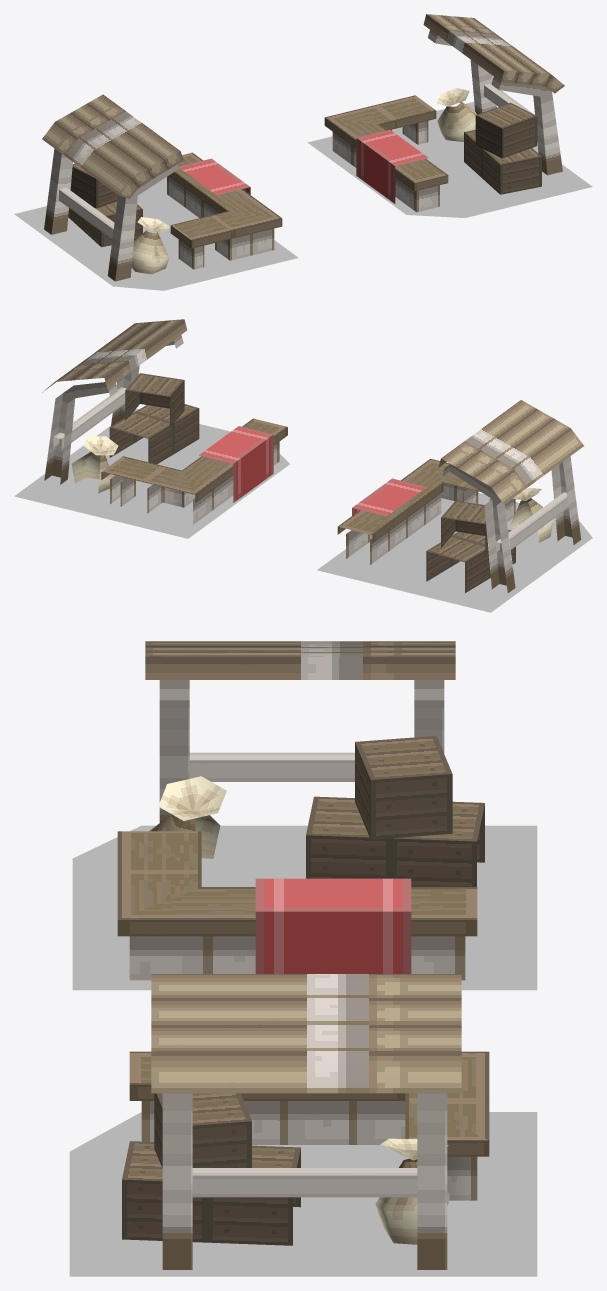
The model's file is wf_shop_s1.dae.
3 views of the same model, one above another, from view 1: azimuth 30°, elevation 25°; view 2: azimuth 150°, elevation 25°; view 3: azimuth 270°, elevation 25° (orthographic). The views are drawn at different scales.
Parts seen in each view (by area): view 1: wf_shop_s1; view 2: wf_shop_s1; view 3: wf_shop_s1.
Boxes of the visible parts, x1,y1,x2,y2 form: wf_shop_s1: [14, 14, 592, 290]; wf_shop_s1: [14, 319, 592, 612]; wf_shop_s1: [69, 641, 537, 1276].
Size of the model in its own units: 178 by 43.38 by 78.
